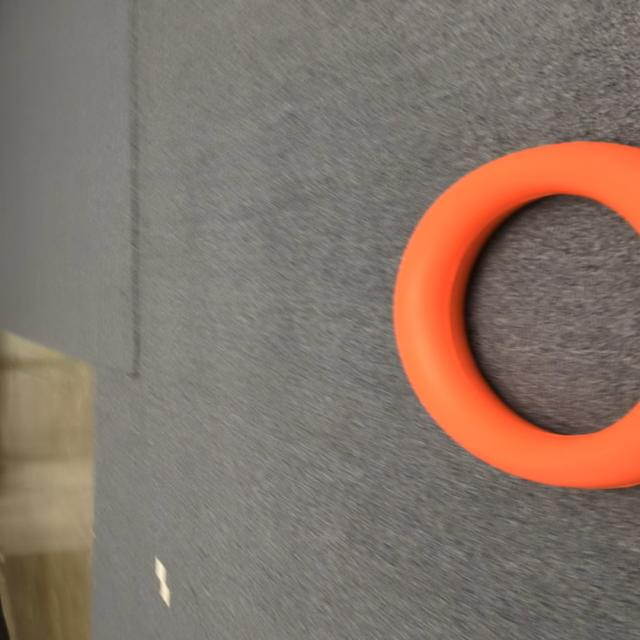note: (396, 134, 640, 479)
